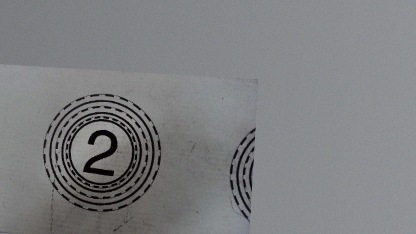2r: (38, 88, 165, 217)
